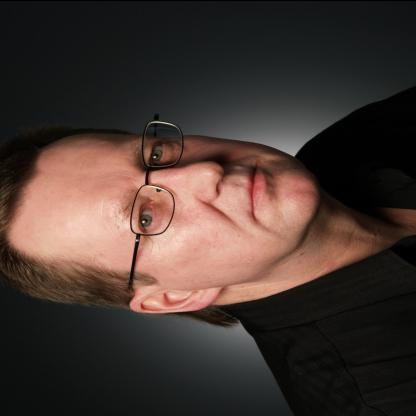Eye: (134, 196, 167, 233), (146, 138, 178, 165)
Mouth: (243, 159, 271, 223)
Nose: (149, 160, 225, 201)
